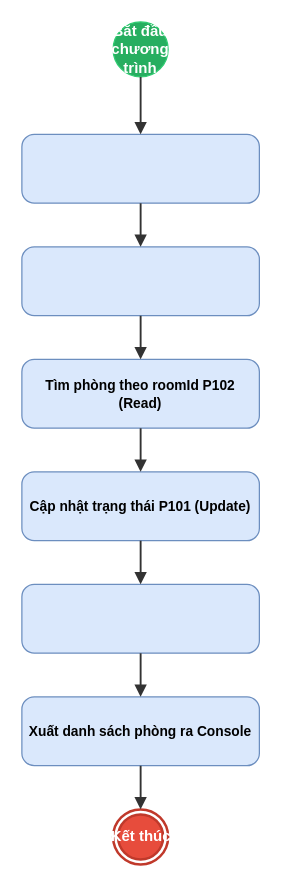
Some shapes in this 281 by 888 pixel diagram are drawn without their labels. The shapes that lost their labels are listed below. From the top down, each one's centre as x and y in pixels, then its label:
At point (140, 168): "Khởi tạo mảng 3 phòng P101, P102, P103".
At point (140, 281): "Thêm phòng P104 (Create)".
At point (140, 618): "Xóa phòng P103 (Delete)".
